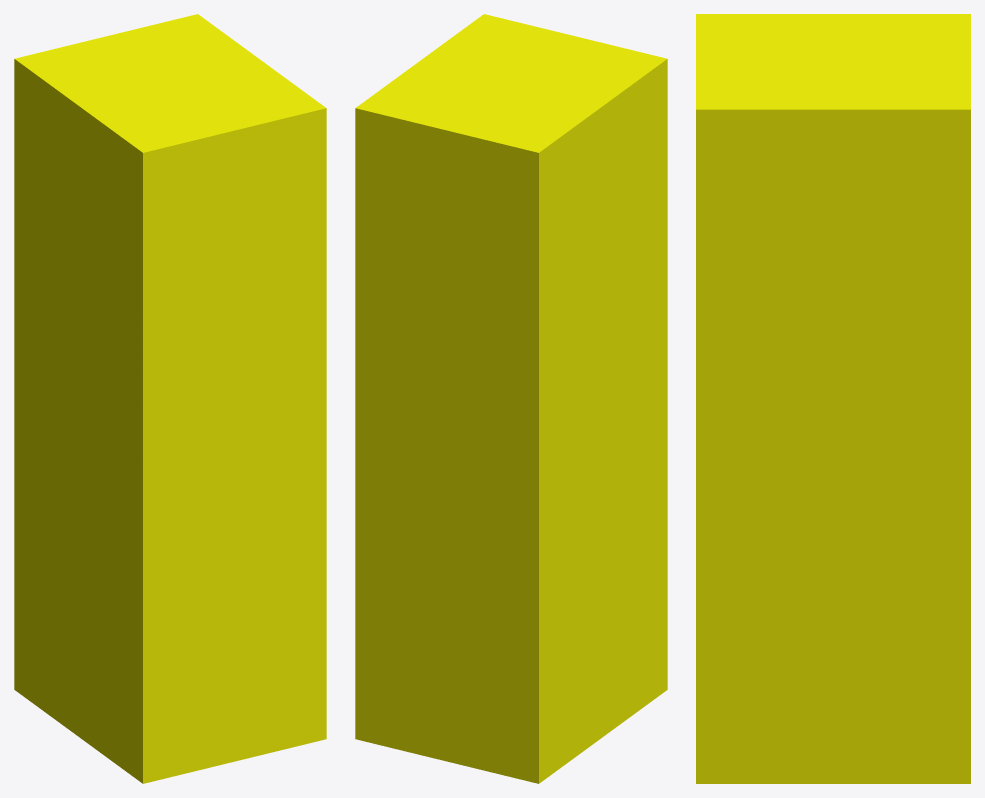
Rendered from sm_hana_swgr_g_700x850x2300_1d.glb.
3 views of the same model, side by side, from view 1: azimuth 30°, elevation 25°; view 2: azimuth 150°, elevation 25°; view 3: azimuth 270°, elevation 25° (orthographic). The views are drawn at different scales.
Visible parts, largest first — view 1: sm_hana_swgr_g_700x850x2300_1d; view 2: sm_hana_swgr_g_700x850x2300_1d; view 3: sm_hana_swgr_g_700x850x2300_1d.
Boxes of the visible parts, box(x1,y1,x2,y2) form: sm_hana_swgr_g_700x850x2300_1d: box(14, 14, 326, 783); sm_hana_swgr_g_700x850x2300_1d: box(355, 14, 667, 783); sm_hana_swgr_g_700x850x2300_1d: box(696, 14, 970, 783).
Bounding box in the file's own units: 0.7 × 2.3 × 0.8501.
1 material, 1 textured.
